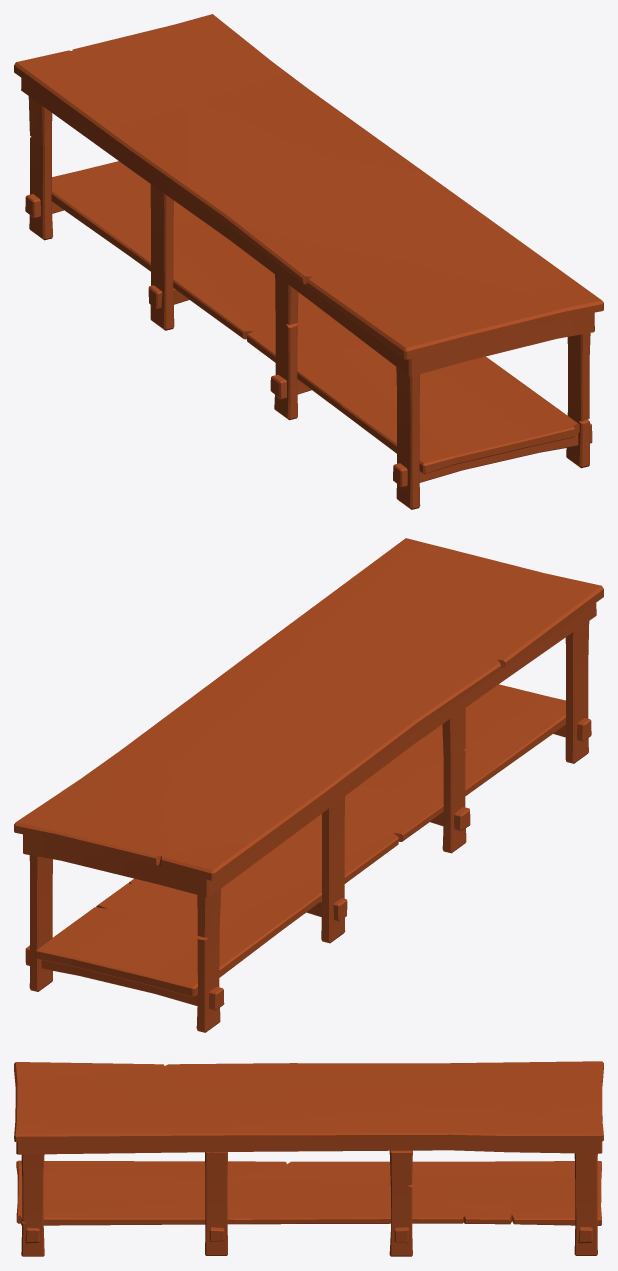
File: Model_Table_Long.FBX
The picture shows the model from 3 angles, top to bottom: view 1: azimuth 30°, elevation 25°; view 2: azimuth 150°, elevation 25°; view 3: azimuth 270°, elevation 25°; orthographic projection. The views are drawn at different scales.
Visible parts, largest first — view 1: Table_Stylised_Long; view 2: Table_Stylised_Long; view 3: Table_Stylised_Long.
Boxes of the visible parts, x1,y1,x2,y2 form: Table_Stylised_Long: [14, 14, 603, 509]; Table_Stylised_Long: [14, 538, 603, 1032]; Table_Stylised_Long: [14, 1061, 603, 1256].
Bounding box in the file's own units: 150 × 120 × 509.
